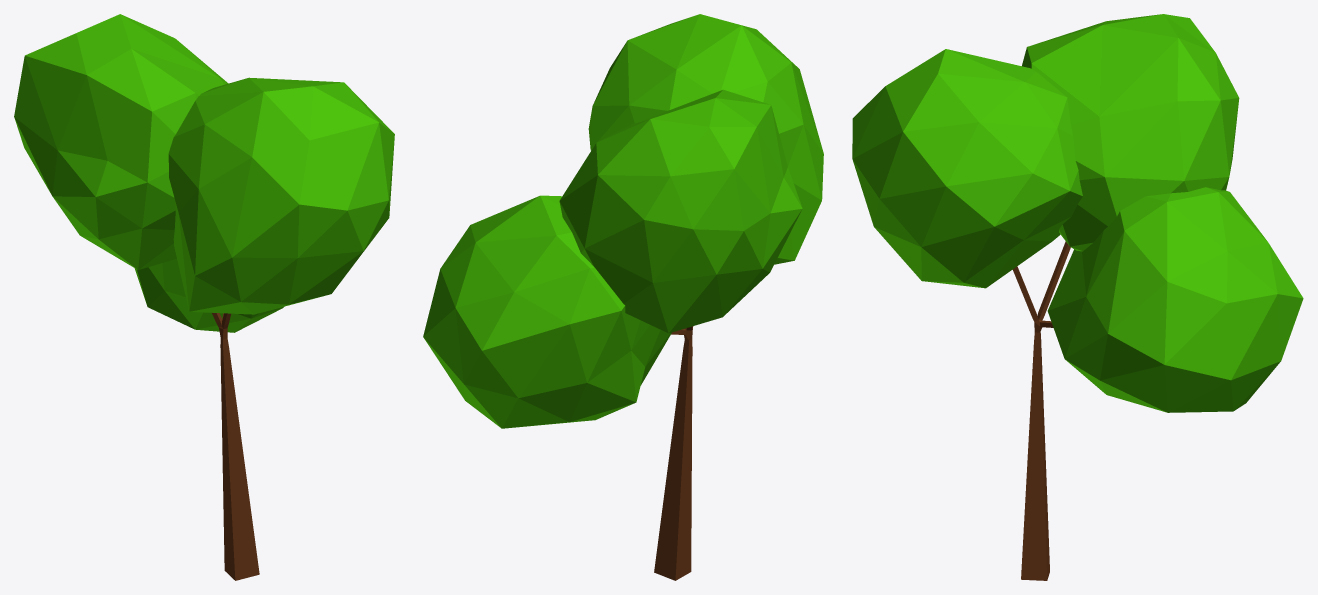
The model's file is lowPolyTree3.fbx.
The picture shows the model from 3 angles, left to right: view 1: azimuth 30°, elevation 25°; view 2: azimuth 150°, elevation 25°; view 3: azimuth 270°, elevation 25°; orthographic projection.
Visible parts, largest first — view 1: Icosphere, Icosphere.001, Trunk, Icosphere.002; view 2: Icosphere.001, Icosphere.002, Icosphere, Trunk; view 3: Icosphere.002, Icosphere, Icosphere.001, Trunk.
Part boxes in pixels (<box>): Icosphere: <box>168,77,394,314</box>; Icosphere.001: <box>14,14,228,269</box>; Trunk: <box>212,313,259,580</box>; Icosphere.002: <box>134,258,283,332</box>; Icosphere.001: <box>559,89,802,333</box>; Icosphere.002: <box>423,195,671,428</box>; Icosphere: <box>588,14,823,264</box>; Trunk: <box>654,326,693,580</box>; Icosphere.002: <box>1047,187,1303,412</box>; Icosphere: <box>852,49,1082,288</box>; Icosphere.001: <box>1022,14,1239,251</box>; Trunk: <box>1012,241,1070,580</box>.
Size of the model in its own units: 683 by 1078 by 853.
